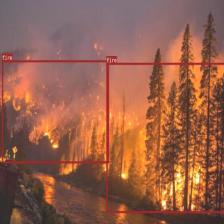fire: (106, 62, 224, 212), (2, 60, 109, 163)
